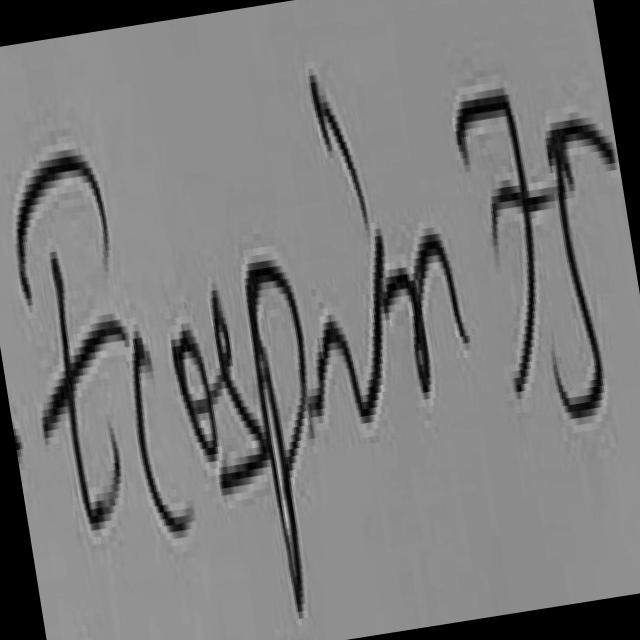5: (548, 118, 616, 419)
7: (457, 88, 555, 387)
E: (44, 252, 129, 525), (15, 149, 106, 302)
c: (135, 331, 194, 534)
i: (311, 76, 369, 227), (367, 247, 384, 431)
n: (384, 220, 470, 400)
o: (172, 330, 218, 458)
p: (247, 263, 306, 607)
r: (309, 319, 365, 425)
s: (211, 290, 270, 491)
